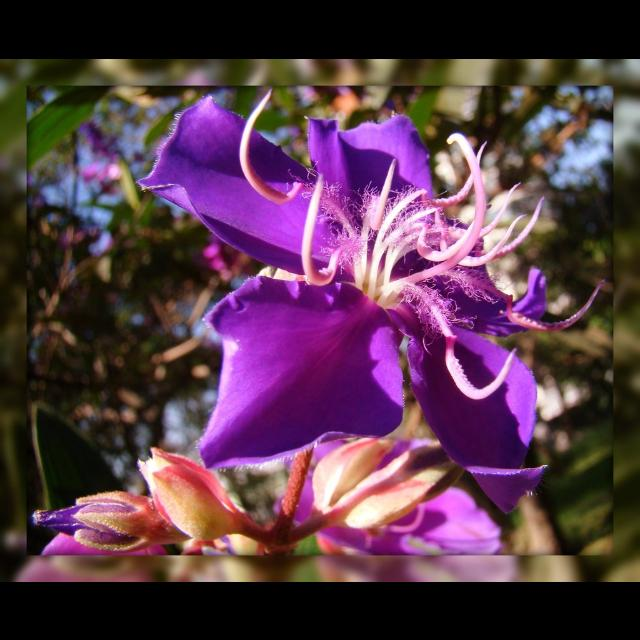Flower: (150, 97, 568, 521), (276, 437, 508, 555)
